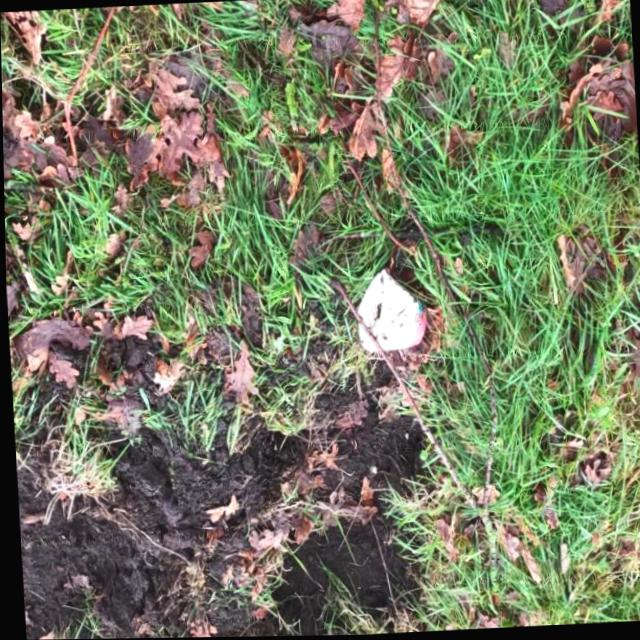Cup: (352, 271, 432, 355)
